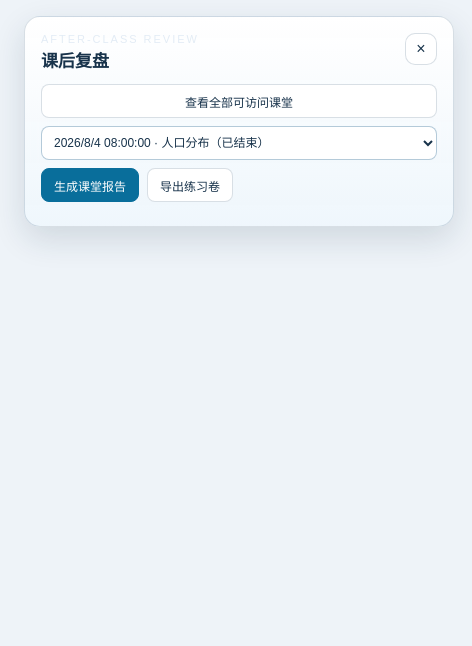
Test: renders preset open homework without fabricated answer or duration
Click the button with test id "generate-report". click: (90, 185)
box: [41, 168, 139, 202]
(page scrolled)
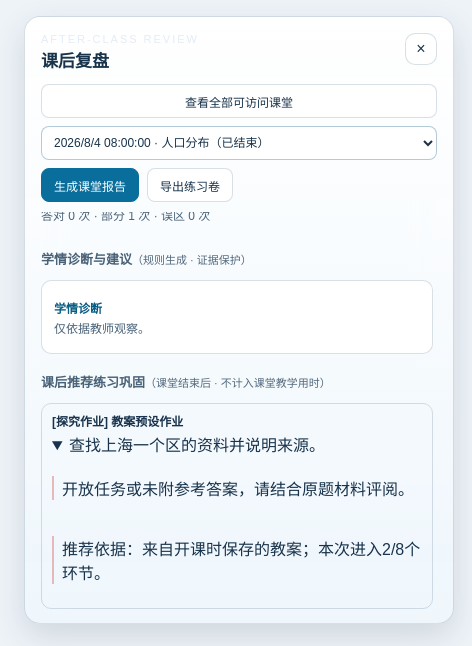
Check: the heading "查找上海一个区的资料并说明来源。" is shown, box [69, 437, 325, 454]
Check: the element with test id "report-practice-list" shows "开放任务或未附参考答案", box [62, 481, 414, 498]
Check: the element with test id "report-practice-list" shows "2/8", box [41, 403, 433, 609]
